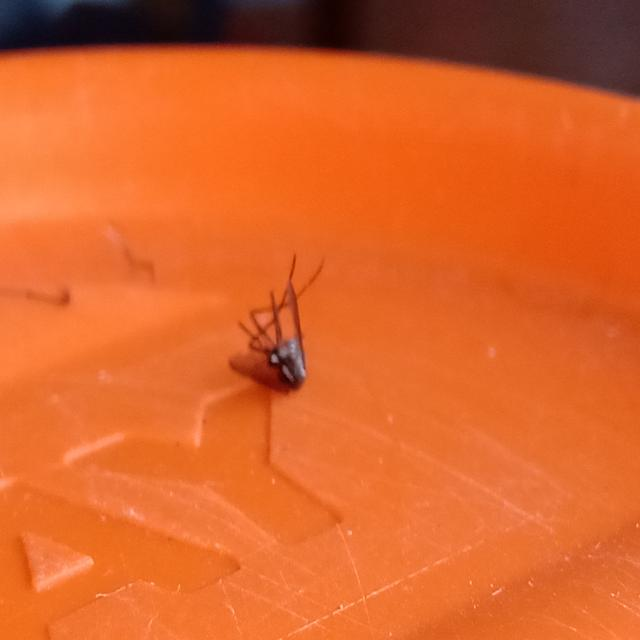albopictus: (227, 244, 322, 383)
